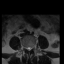CCS_stenosis: (28, 45, 30, 52)
LFS_normal: (31, 44, 33, 50)
LLS_normal: (30, 45, 31, 51)
RFS_normal: (24, 44, 26, 50)
RLS_normal: (26, 44, 28, 51)
